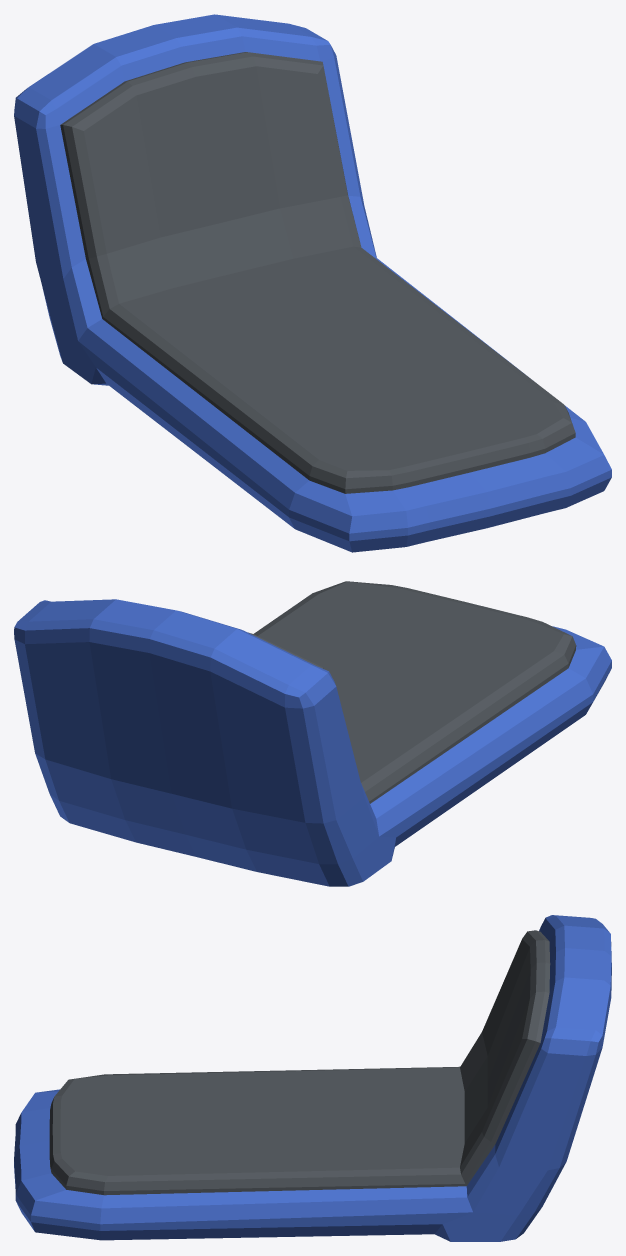
File: Personal_Vehicle_04_Seat_Blue.fbx
The picture shows the model from 3 angles, top to bottom: view 1: azimuth 30°, elevation 25°; view 2: azimuth 150°, elevation 25°; view 3: azimuth 270°, elevation 25°; orthographic projection. The views are drawn at different scales.
Parts seen in each view (by area): view 1: Personal_Vehicle_04_Seat_Blue; view 2: Personal_Vehicle_04_Seat_Blue; view 3: Personal_Vehicle_04_Seat_Blue.
Part boxes in pixels (box(x1,y1,x2,y2)): Personal_Vehicle_04_Seat_Blue: box(14, 14, 611, 552); Personal_Vehicle_04_Seat_Blue: box(14, 581, 611, 886); Personal_Vehicle_04_Seat_Blue: box(14, 915, 611, 1241).
Size of the model in its own units: 43.57 by 36.77 by 84.59.
1 material, 1 textured.
